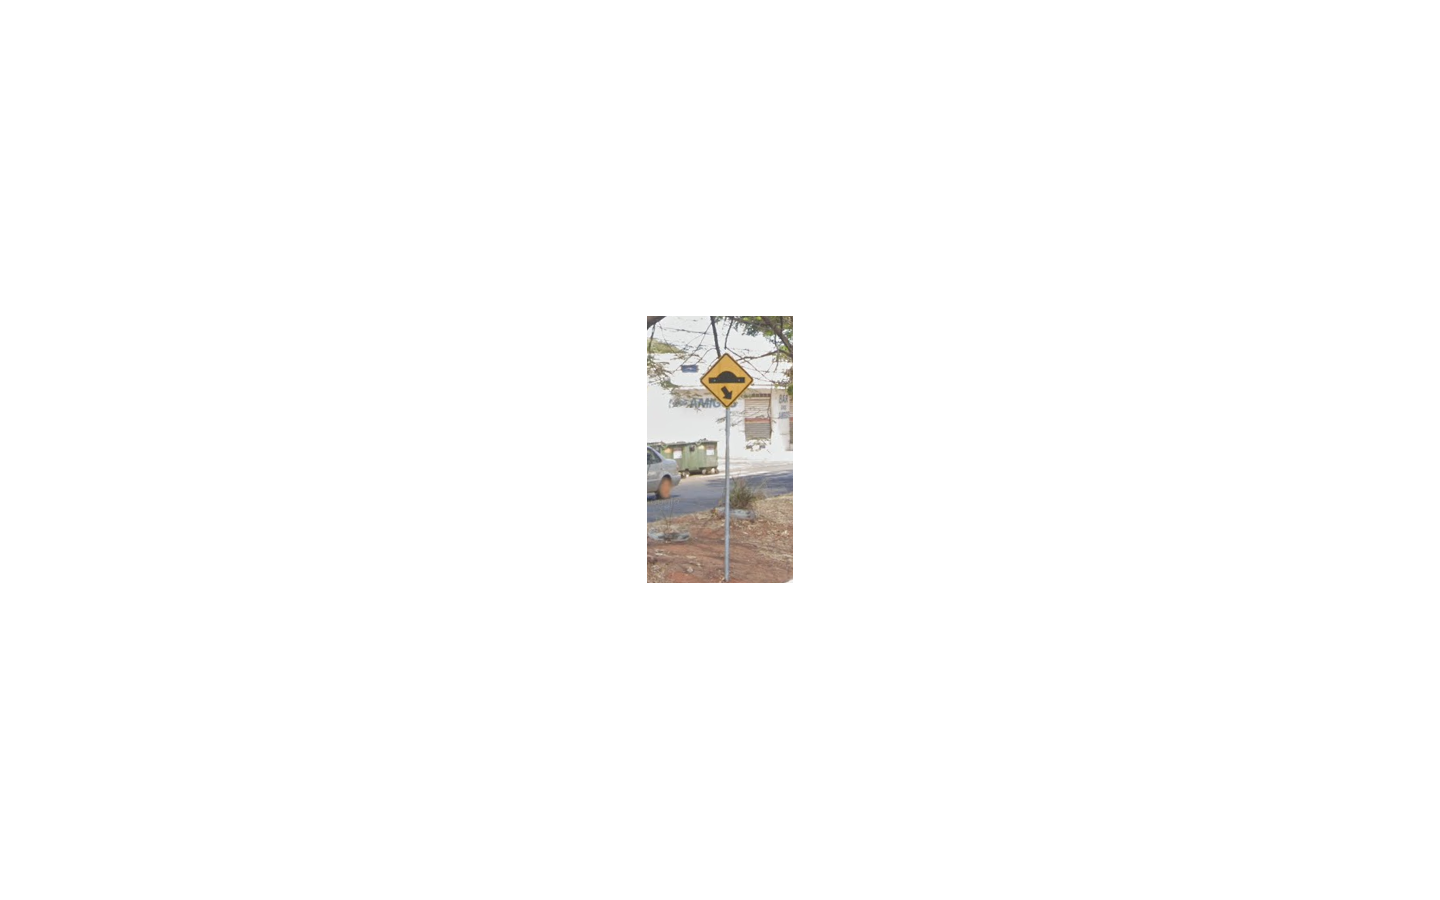lomb: (700, 351, 754, 407)
